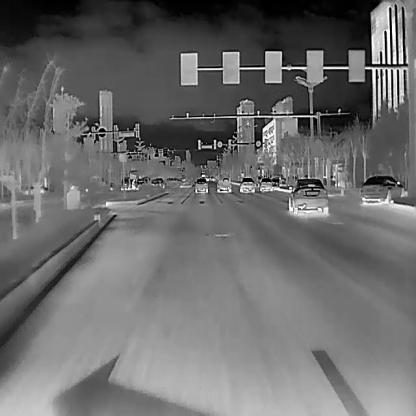car: (286, 177, 328, 216), (358, 175, 408, 204), (216, 174, 231, 192), (239, 177, 255, 193), (259, 177, 272, 193), (194, 177, 207, 193)
